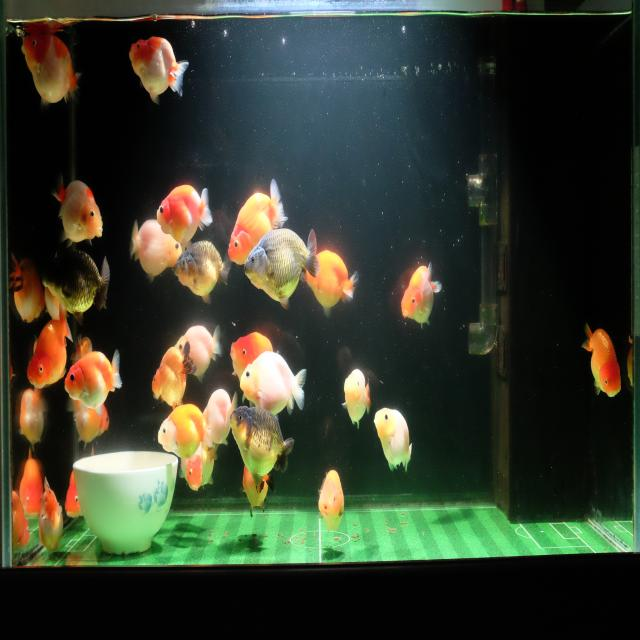Tilapia: (243, 226, 320, 310), (228, 404, 296, 494), (227, 179, 290, 267), (42, 252, 110, 327), (20, 30, 81, 109), (239, 350, 307, 416), (128, 35, 190, 107), (155, 182, 214, 256), (64, 347, 124, 417), (26, 302, 73, 390), (51, 170, 104, 248), (303, 249, 358, 320), (174, 239, 232, 305), (169, 318, 224, 384), (128, 217, 182, 284), (580, 320, 623, 401), (157, 401, 214, 462), (150, 340, 197, 412), (400, 260, 443, 330), (9, 245, 45, 325), (229, 329, 279, 386), (374, 407, 414, 475), (64, 446, 99, 522), (66, 389, 110, 448), (37, 470, 65, 560), (240, 453, 276, 518), (201, 388, 237, 449), (18, 383, 47, 453), (177, 424, 205, 495), (341, 366, 371, 432), (318, 467, 345, 537), (20, 448, 44, 521), (11, 491, 30, 553)
